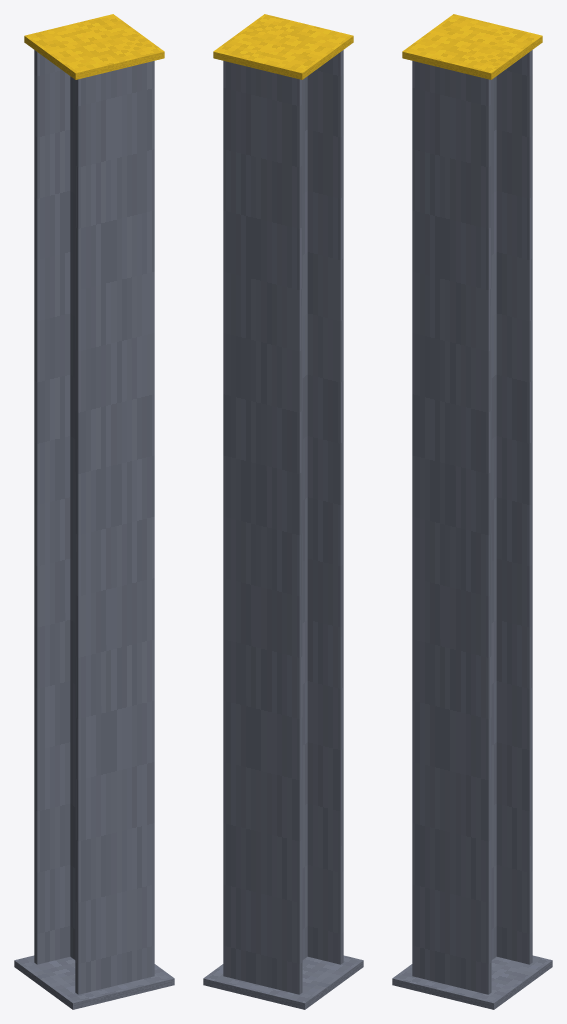
The model's file is p_jb_pipepost.glb.
The picture shows the model from 3 angles, left to right: view 1: azimuth 30°, elevation 25°; view 2: azimuth 150°, elevation 25°; view 3: azimuth 330°, elevation 25°; orthographic projection.
Parts seen in each view (by area): view 1: p_jb_pipepost_lod0; view 2: p_jb_pipepost_lod0; view 3: p_jb_pipepost_lod0.
Part boxes in pixels (x1=…): p_jb_pipepost_lod0: x1=14, y1=14, x2=174, y2=1009; p_jb_pipepost_lod0: x1=203, y1=14, x2=363, y2=1009; p_jb_pipepost_lod0: x1=392, y1=14, x2=552, y2=1009.
Size of what is drawn, in the model's own units: 0.8 by 7 by 0.8.
1 material, 1 textured.
